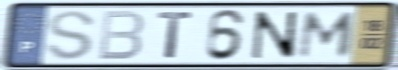6: (204, 8, 246, 63)
B: (96, 9, 147, 62)
M: (295, 10, 360, 60)
N: (250, 9, 299, 61)
S: (44, 9, 98, 63)
T: (155, 11, 196, 61)
